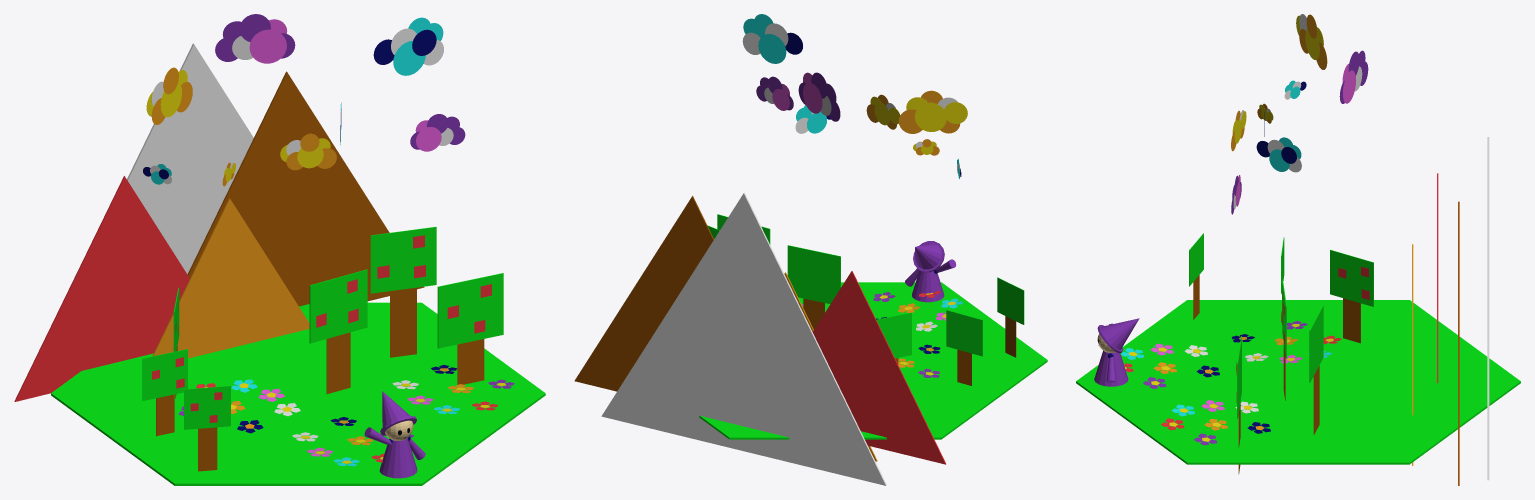
Rendered from Figuras07.glb.
The picture shows the model from 3 angles, left to right: view 1: azimuth 30°, elevation 25°; view 2: azimuth 150°, elevation 25°; view 3: azimuth 270°, elevation 25°; orthographic projection. The views are drawn at different scales.
Visible parts, largest first — view 1: Cylinder.004, Cylinder.110, Cylinder.111, Cylinder.109, Cylinder.112, Plane.030, Plane.033, Plane.034, Cylinder.105, Plane.031, Plane.035, Cylinder.108 (+4 smaller); view 2: Cylinder.109, Cylinder.004, Cylinder.111, Cylinder.110, Plane.034, Cylinder.106, Cylinder.108, Plane.035, Cylinder.065, Plane.031, Cylinder.105, Plane.029 (+3 smaller); view 3: Cylinder.004, Plane.029, Cylinder.065, Plane.030, Cylinder.101, Cylinder.106, Cylinder.109, Cylinder.105, Plane.031, Cylinder.110.
Boxes of the visible parts, bbox=[...] form: Cylinder.004: bbox=[51, 302, 545, 485]; Cylinder.110: bbox=[187, 71, 424, 306]; Cylinder.111: bbox=[14, 176, 189, 401]; Cylinder.109: bbox=[127, 43, 253, 274]; Cylinder.112: bbox=[152, 198, 309, 358]; Plane.030: bbox=[370, 227, 436, 357]; Plane.033: bbox=[437, 273, 503, 384]; Plane.034: bbox=[309, 269, 367, 393]; Cylinder.105: bbox=[215, 14, 295, 63]; Plane.031: bbox=[184, 386, 230, 471]; Plane.035: bbox=[142, 349, 187, 436]; Cylinder.108: bbox=[373, 17, 443, 75]; Cylinder.109: bbox=[601, 192, 886, 485]; Cylinder.004: bbox=[699, 282, 1047, 439]; Cylinder.111: bbox=[812, 271, 945, 464]; Cylinder.110: bbox=[574, 196, 713, 391]; Plane.034: bbox=[787, 245, 840, 329]; Cylinder.106: bbox=[898, 90, 967, 133]; Cylinder.108: bbox=[742, 14, 802, 63]; Plane.035: bbox=[946, 310, 982, 385]; Cylinder.065: bbox=[905, 241, 956, 302]; Plane.031: bbox=[997, 277, 1024, 357]; Cylinder.105: bbox=[798, 72, 840, 121]; Plane.029: bbox=[876, 312, 911, 364]; Cylinder.004: bbox=[1076, 300, 1520, 464]; Plane.029: bbox=[1330, 250, 1373, 343]; Cylinder.065: bbox=[1094, 318, 1139, 386]; Plane.030: bbox=[1309, 305, 1323, 434]; Cylinder.101: bbox=[1256, 137, 1301, 172]; Cylinder.106: bbox=[1296, 14, 1327, 69]; Cylinder.109: bbox=[1487, 137, 1489, 480]; Cylinder.105: bbox=[1339, 50, 1368, 103]; Plane.031: bbox=[1189, 233, 1203, 319]; Cylinder.110: bbox=[1458, 201, 1459, 485].
Bounding box in the file's own units: 6.55 × 6.07 × 6.66.
